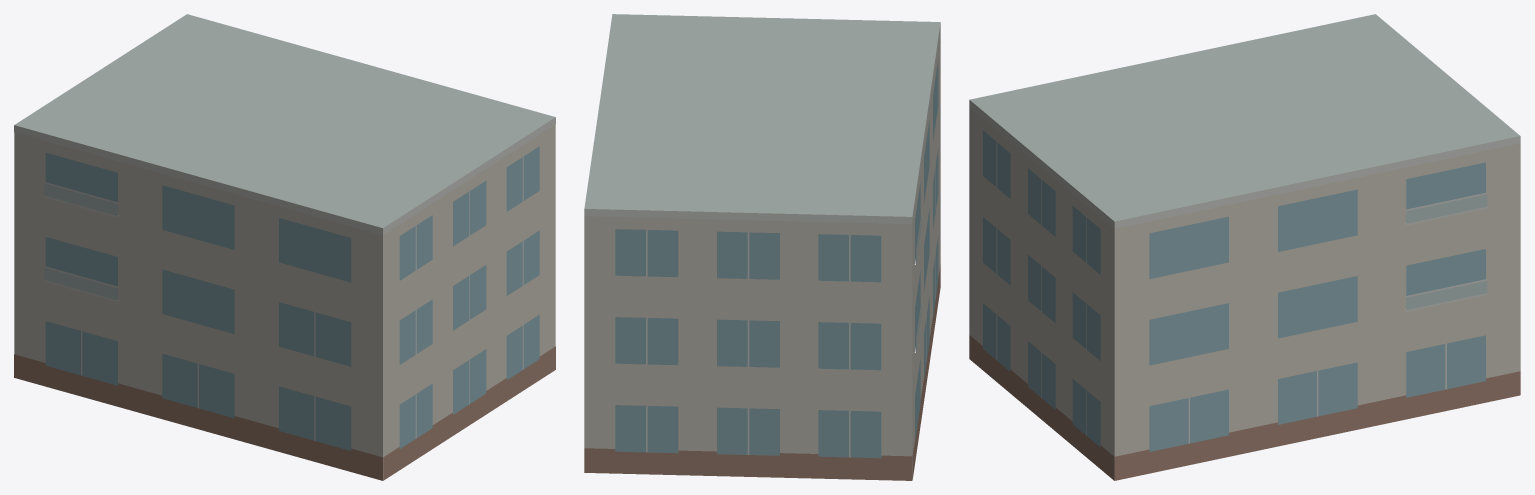
File: survey-upis-32893299.glb
3 views of the same model, side by side, from view 1: azimuth 30°, elevation 25°; view 2: azimuth 150°, elevation 25°; view 3: azimuth 270°, elevation 25° (orthographic). The views are drawn at different scales.
Visible parts, largest first — view 1: survey-upis-32893299.tmp; view 2: survey-upis-32893299.tmp; view 3: survey-upis-32893299.tmp.
Part boxes in pixels (x1=…): survey-upis-32893299.tmp: x1=14, y1=14, x2=555, y2=480; survey-upis-32893299.tmp: x1=584, y1=14, x2=940, y2=480; survey-upis-32893299.tmp: x1=969, y1=14, x2=1520, y2=480.
Size of the model in its own units: 14.94 by 8.7 by 16.77.
